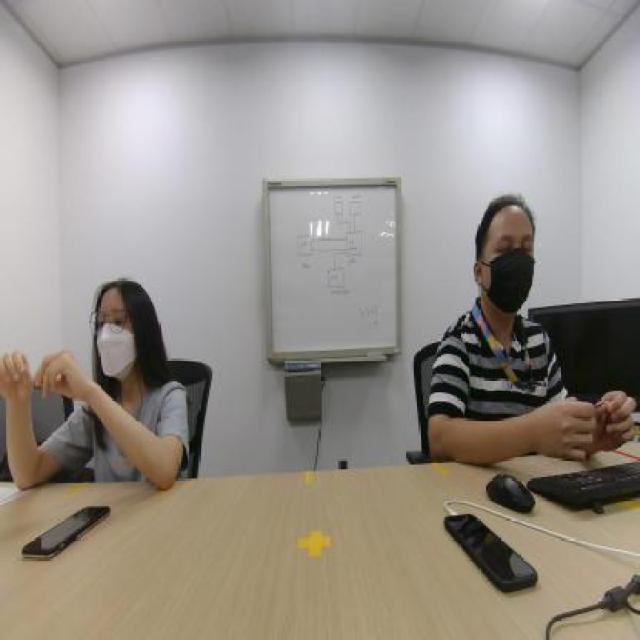Person: (6, 232, 202, 480), (425, 174, 584, 454)
